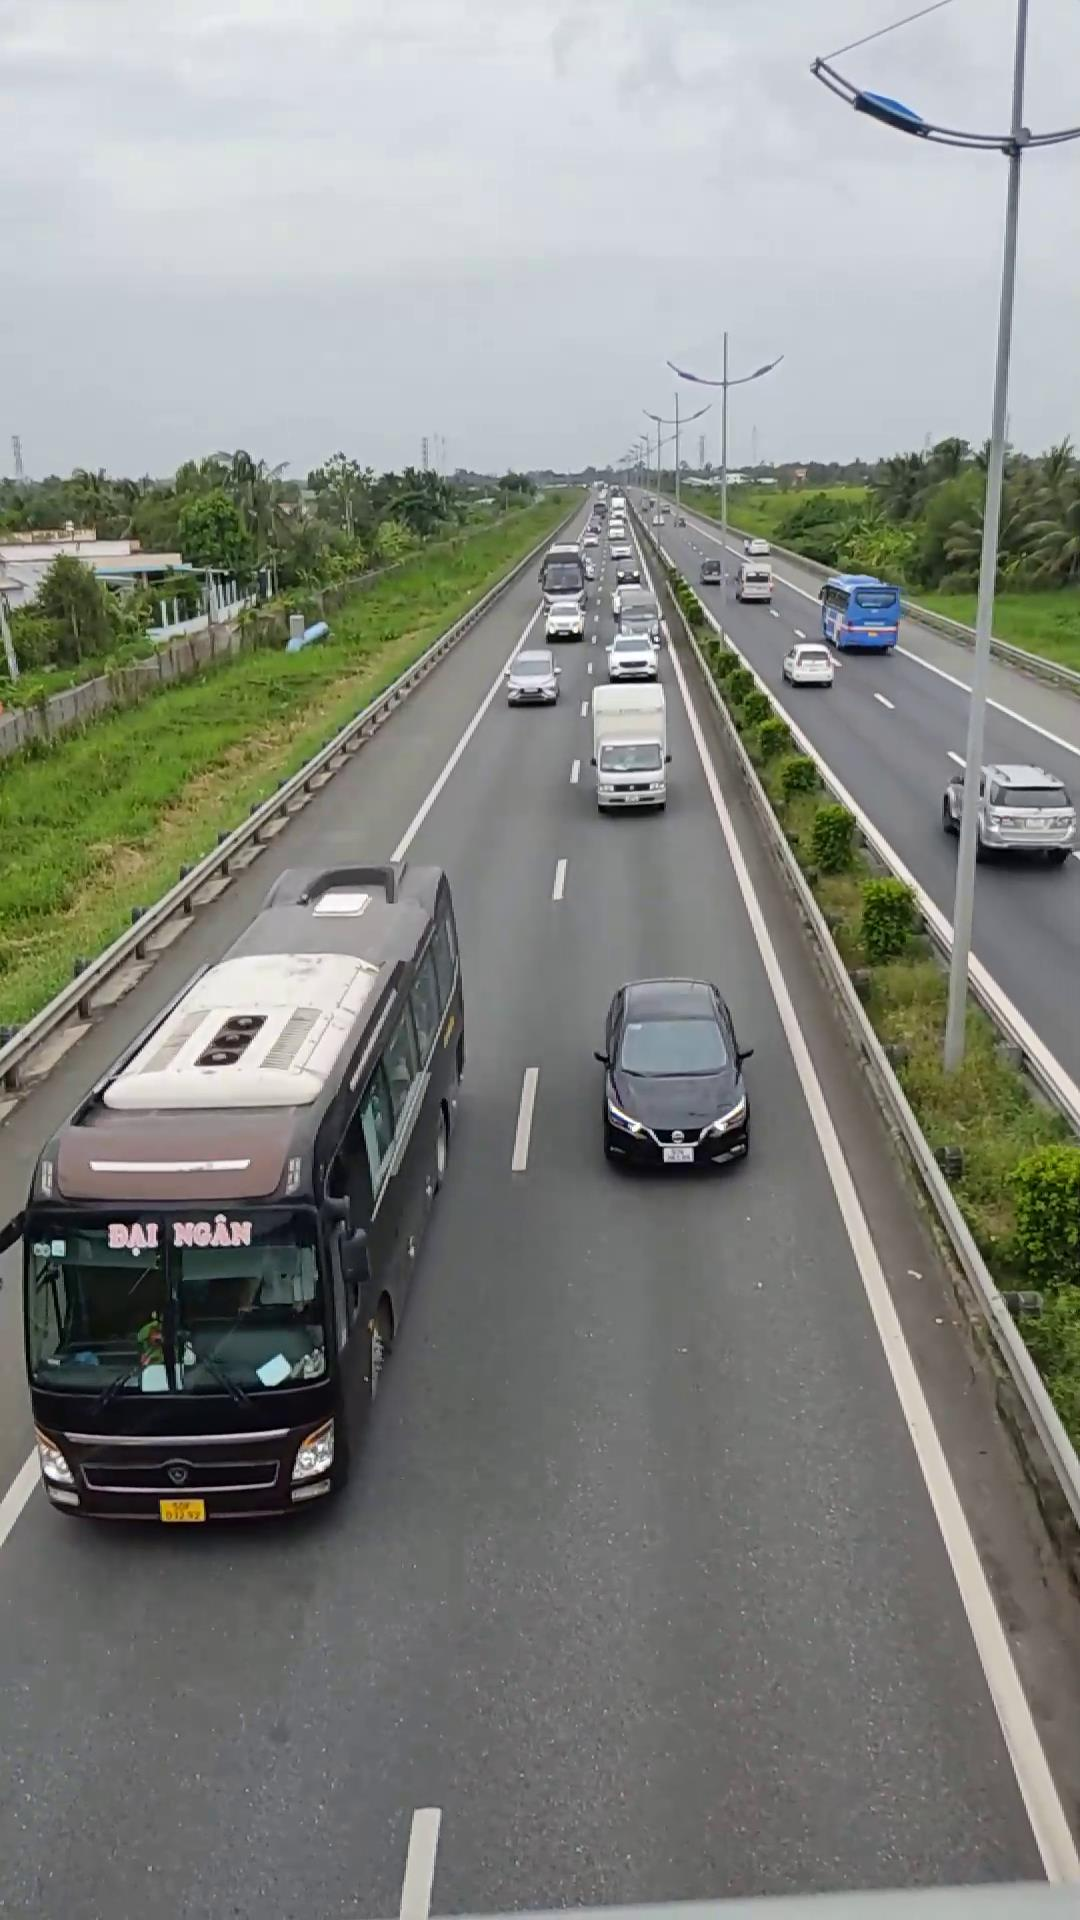bus: (8, 862, 468, 1524)
car: (593, 977, 754, 1174), (947, 760, 1077, 864), (580, 735, 672, 812)
